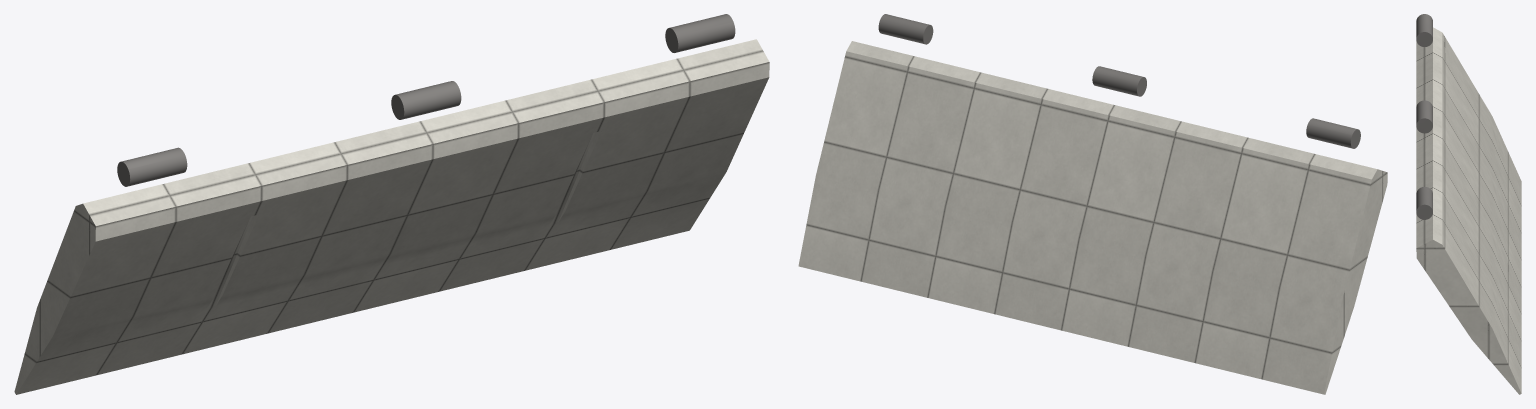
File: ax_aero_25_csf_flap_s_deployed.glb
3 renders of one model, left to right at view 1: azimuth 30°, elevation 25°; view 2: azimuth 150°, elevation 25°; view 3: azimuth 270°, elevation 25°, orthographic. The views are drawn at different scales.
Parts seen in each view (by area): view 1: surface, hinge_fittings; view 2: surface, hinge_fittings; view 3: surface, hinge_fittings.
Part boxes in pixels (x1,y1,x2,y2): surface: (14, 39, 769, 394); hinge_fittings: (117, 14, 735, 186); surface: (798, 41, 1387, 394); hinge_fittings: (878, 14, 1360, 148); surface: (1416, 27, 1521, 394); hinge_fittings: (1416, 14, 1432, 219).
Bounding box in the file's own units: 1.18 × 0.4648 × 0.2472.
2 materials, 2 textured.
